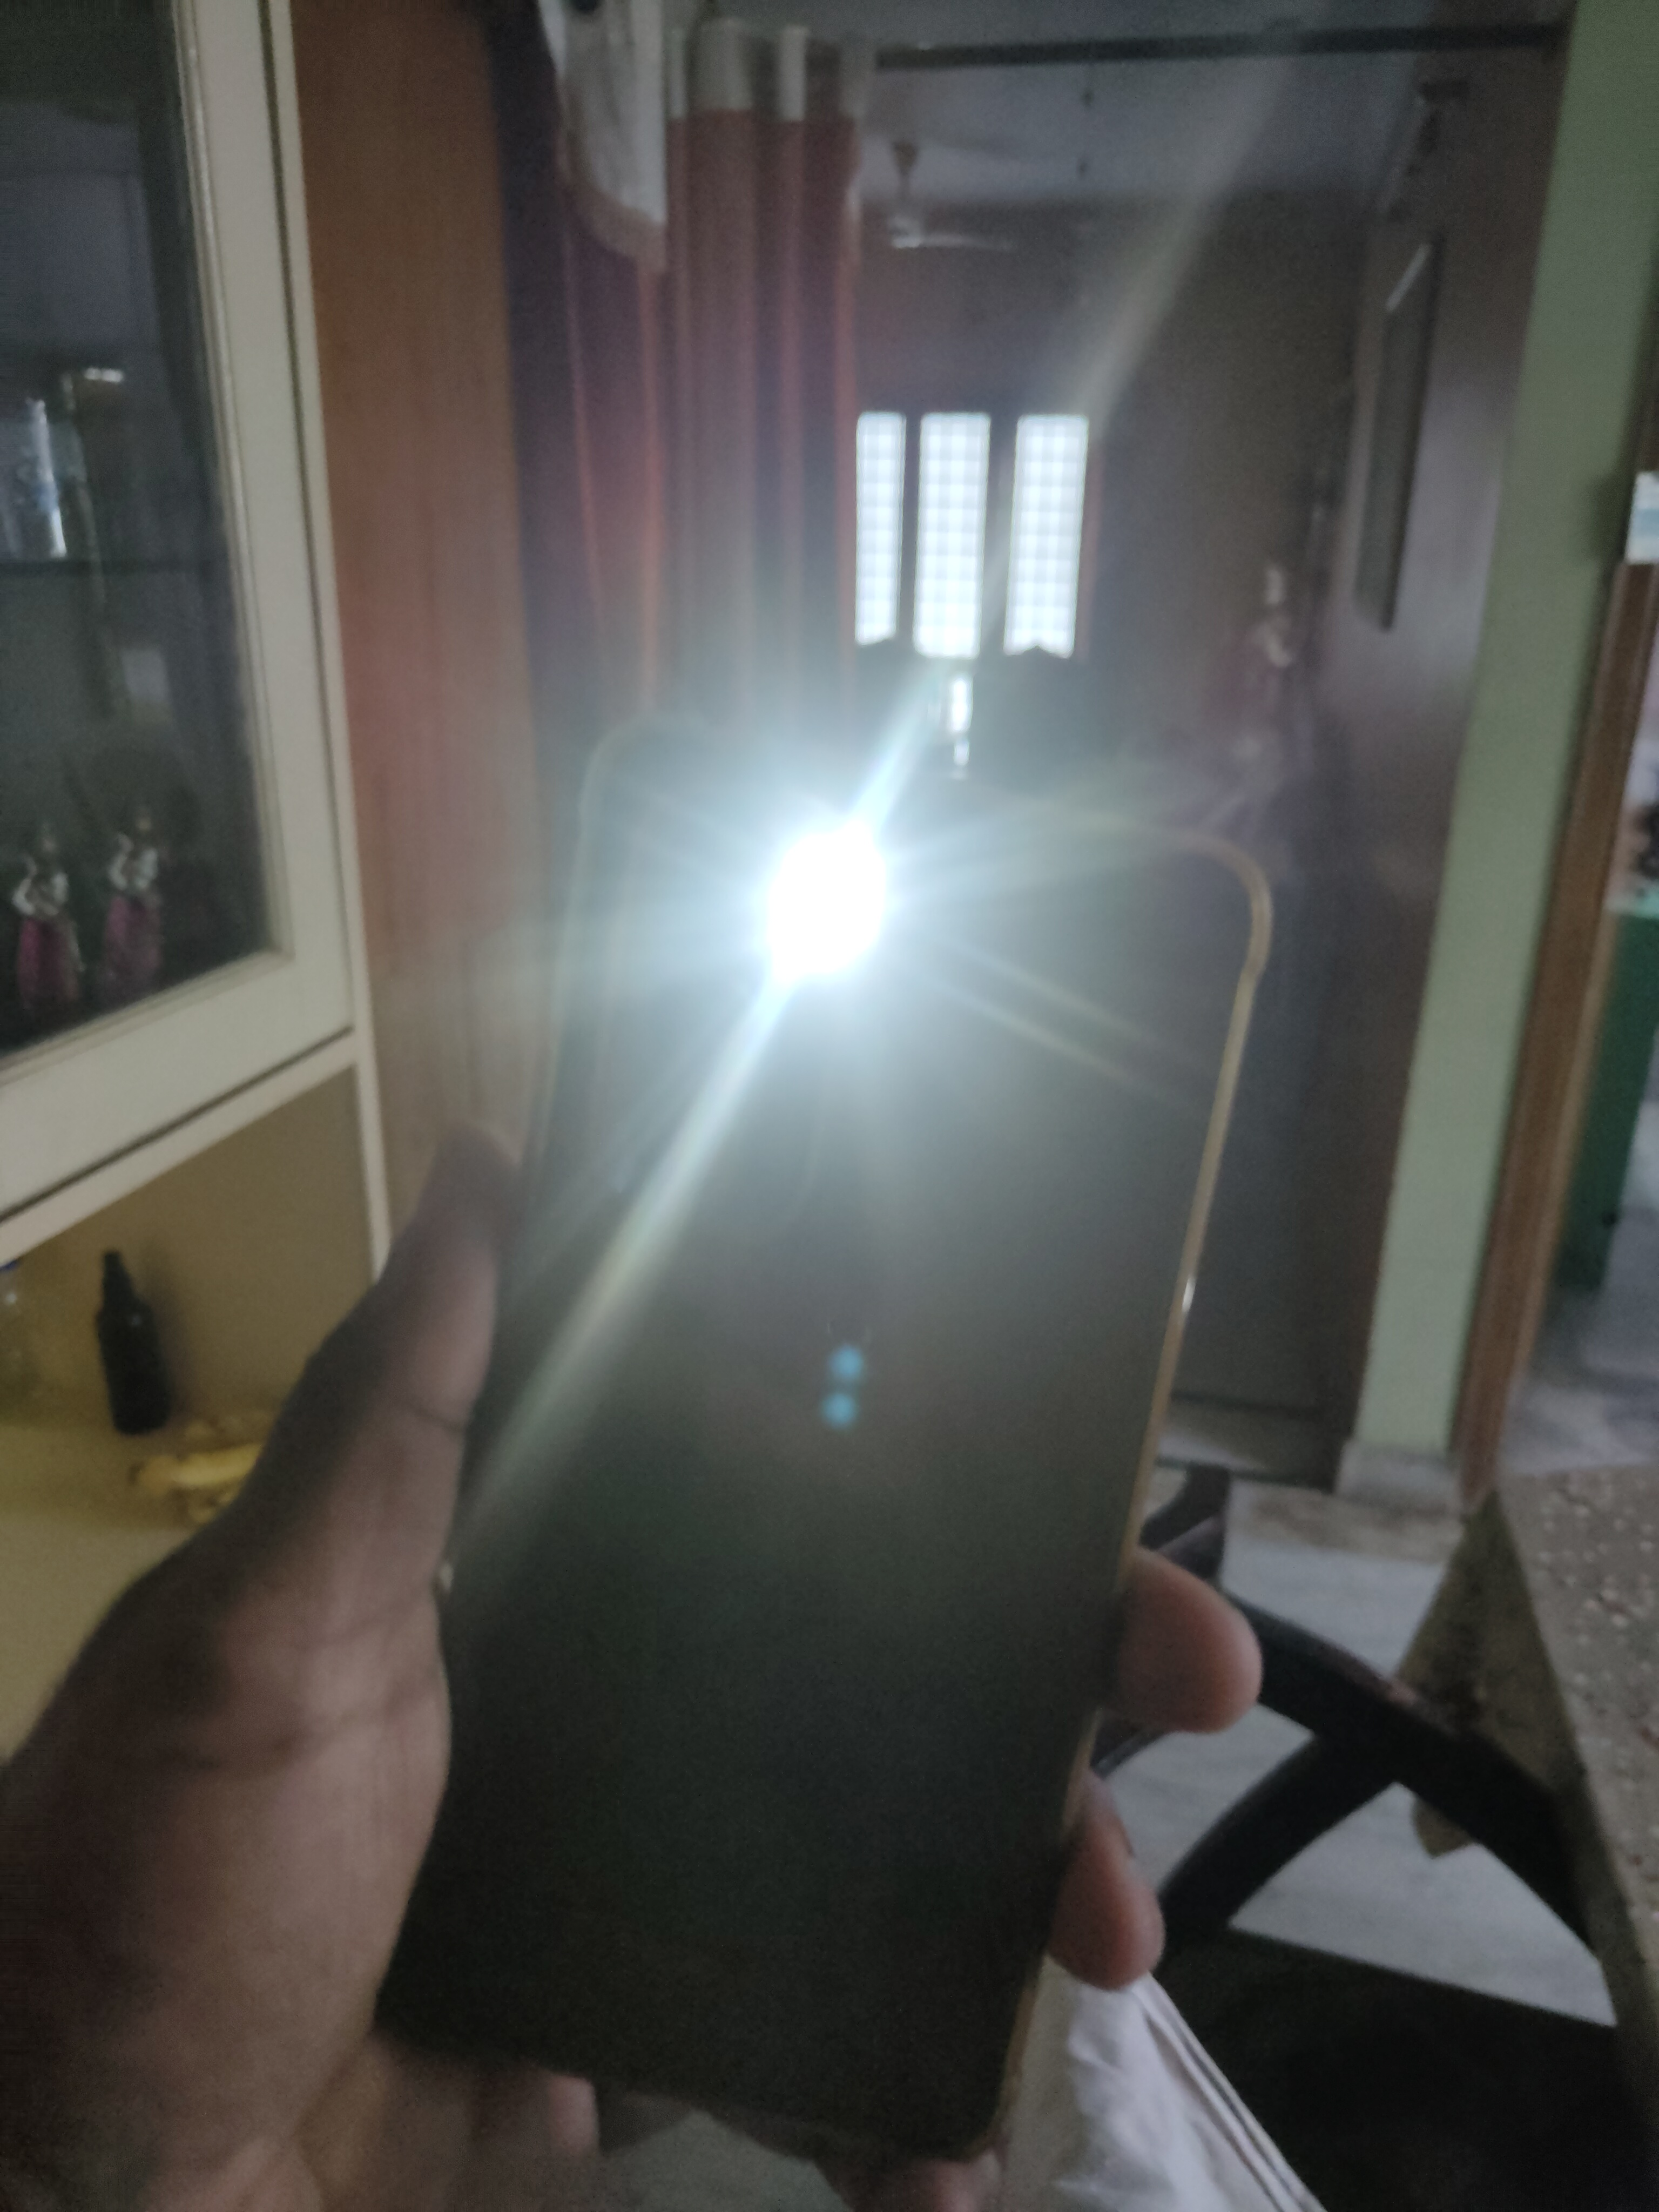Glare: (744, 803, 906, 1008)
